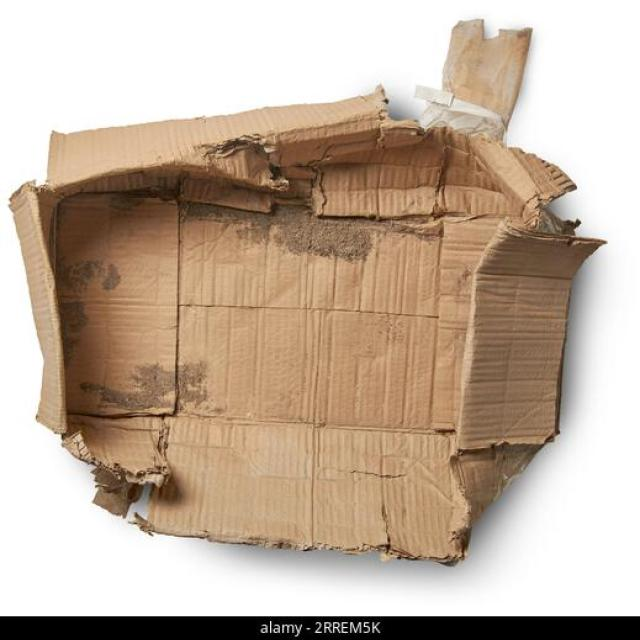cardboard: (59, 144, 538, 458)
